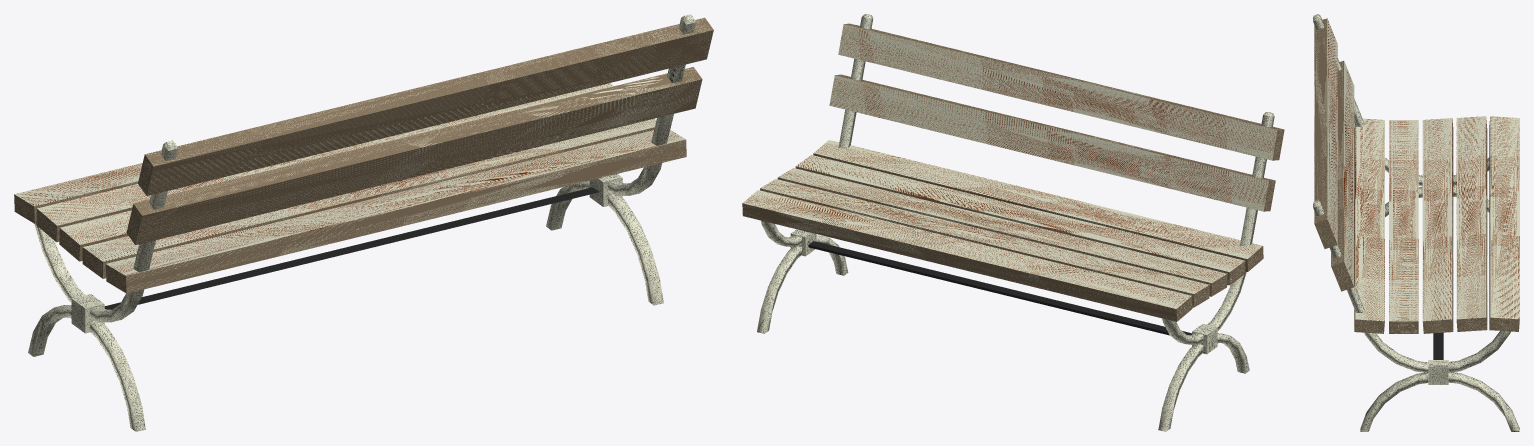
3 renders of one model, left to right at view 1: azimuth 30°, elevation 25°; view 2: azimuth 150°, elevation 25°; view 3: azimuth 270°, elevation 25°, orthographic. The views are drawn at different scales.
Parts seen in each view (by area): view 1: mesh3_mesh3-geometry, mesh7_mesh7-geometry, mesh4_mesh4-geometry, mesh8_mesh8-geometry, mesh6_mesh6-geometry; view 2: mesh3_mesh3-geometry, mesh4_mesh4-geometry, mesh7_mesh7-geometry, mesh8_mesh8-geometry, mesh6_mesh6-geometry; view 3: mesh3_mesh3-geometry, mesh4_mesh4-geometry, mesh7_mesh7-geometry, mesh6_mesh6-geometry, mesh8_mesh8-geometry.
Boxes of the visible parts, x1,y1,x2,y2 form: mesh3_mesh3-geometry: [14, 17, 713, 293]; mesh7_mesh7-geometry: [28, 180, 663, 431]; mesh4_mesh4-geometry: [34, 14, 695, 322]; mesh8_mesh8-geometry: [104, 187, 599, 309]; mesh6_mesh6-geometry: [71, 174, 622, 333]; mesh3_mesh3-geometry: [742, 23, 1284, 321]; mesh4_mesh4-geometry: [761, 14, 1274, 345]; mesh7_mesh7-geometry: [757, 235, 1249, 431]; mesh8_mesh8-geometry: [808, 241, 1191, 335]; mesh6_mesh6-geometry: [790, 229, 1217, 354]; mesh3_mesh3-geometry: [1314, 18, 1519, 333]; mesh4_mesh4-geometry: [1313, 14, 1510, 372]; mesh7_mesh7-geometry: [1360, 186, 1519, 431]; mesh6_mesh6-geometry: [1428, 360, 1448, 384]; mesh8_mesh8-geometry: [1433, 332, 1443, 359].
Bounding box in the file's own units: 0.825 × 0.4372 × 0.3581.
